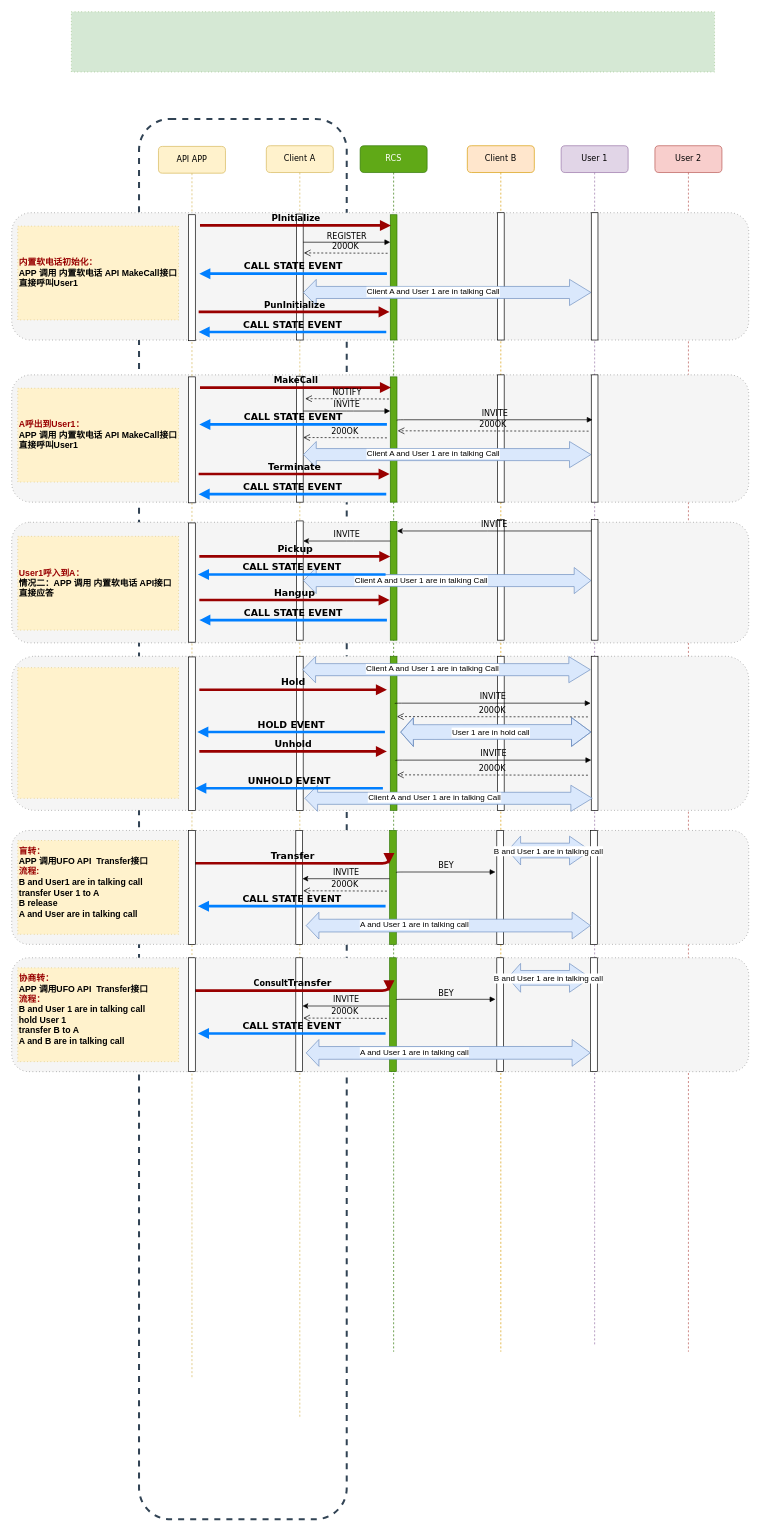
The diagram is 760 pixels wide and 1532 high, and some of its shapes have lost their labels. Each missing label, with the box of its shape:
保持/取消保持: APP 调用UFO API Hold接口: (17, 667, 179, 798)
内置软电话音视频通话： 必须先使用接口 PInitialize 进行初始化内置软电话，才可使用内置软电话的相关功能。: (71, 11, 715, 72)
